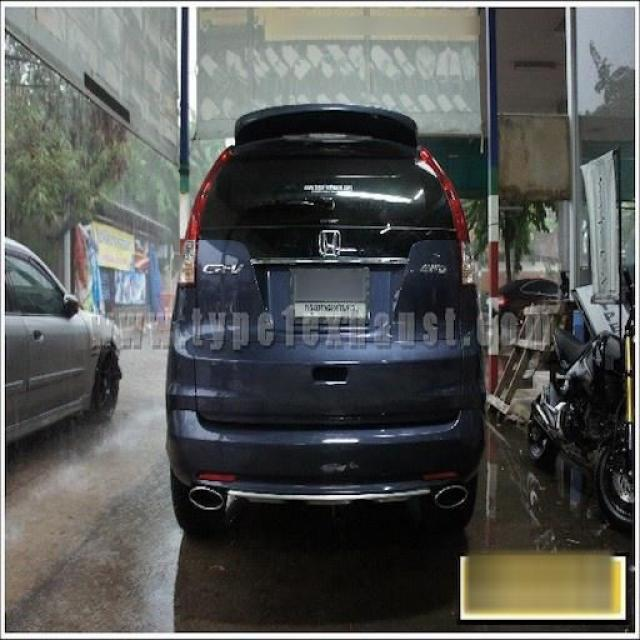back_bumper: (166, 284, 488, 497)
back_glass: (202, 137, 457, 228)
back_left_light: (178, 144, 234, 284)
back_right_light: (419, 145, 474, 284)
trunk: (195, 223, 462, 423)
